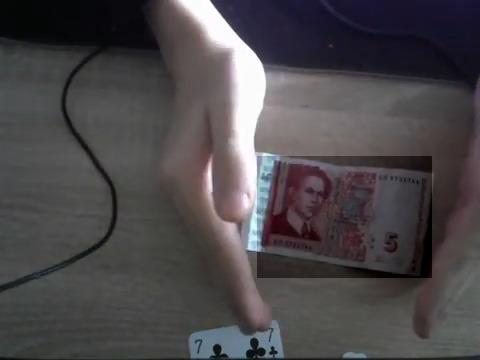5leva: (257, 156, 432, 278)
